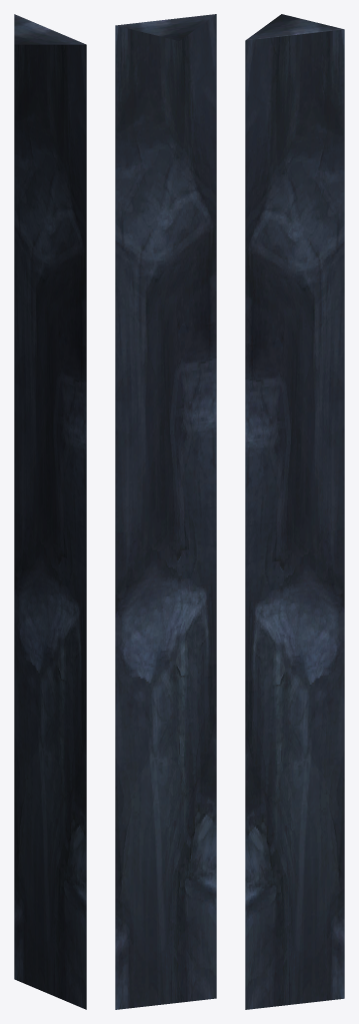
Rendered from mine_wall_convex_01.fbx.
3 renders of one model, left to right at view 1: azimuth 90°, elevation 25°; view 2: azimuth 150°, elevation 25°; view 3: azimuth 330°, elevation 25°, orthographic.
Visible parts, largest first — view 1: obj1.002; view 2: obj1.002; view 3: obj1.002.
Part boxes in pixels (x1=…): obj1.002: x1=14, y1=14, x2=86, y2=1009; obj1.002: x1=115, y1=14, x2=216, y2=1009; obj1.002: x1=245, y1=14, x2=344, y2=1009.
Bounding box in the file's own units: 0.375 × 5.5 × 0.375.
